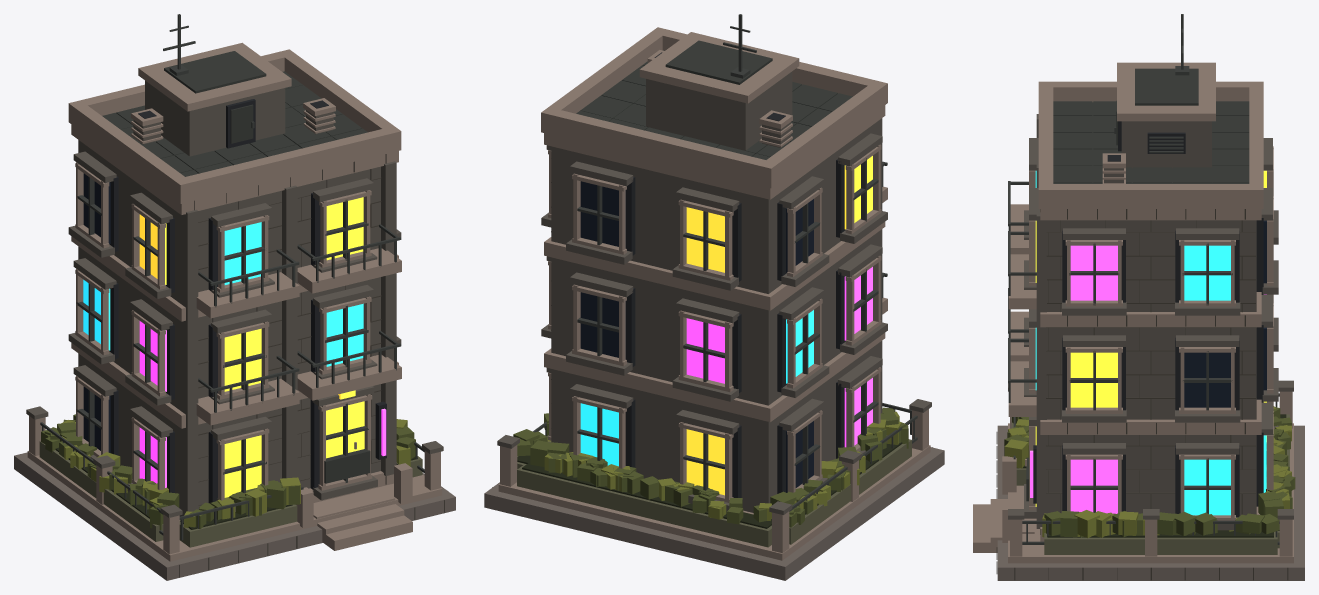
Rendered from neon_residence.glb.
3 renders of one model, left to right at view 1: azimuth 30°, elevation 25°; view 2: azimuth 150°, elevation 25°; view 3: azimuth 270°, elevation 25°, orthographic. The views are drawn at different scales.
Bounding box in the file's own units: 5.9 × 9.23 × 5.83.
Materials: 4 (4 with a texture image).
